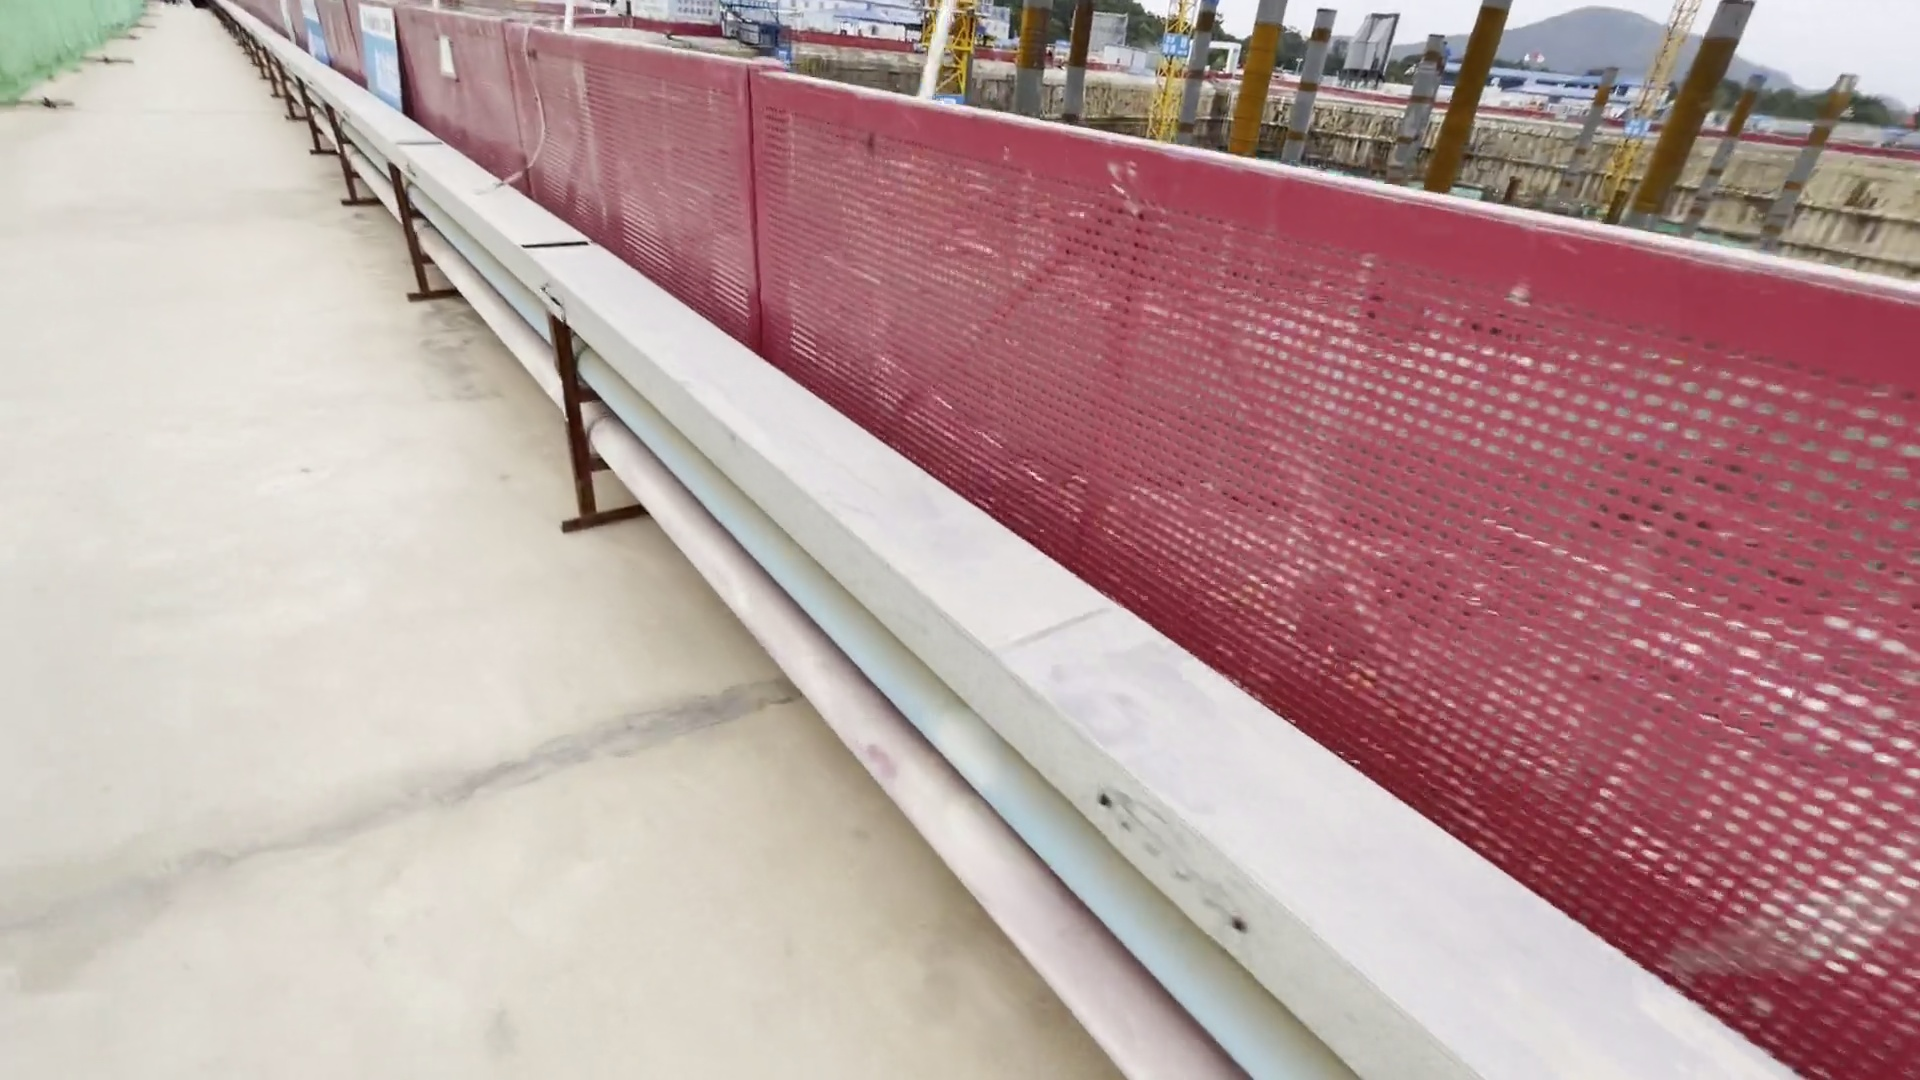fence: (367, 1, 1739, 949)
slogan: (352, 1, 402, 111)
